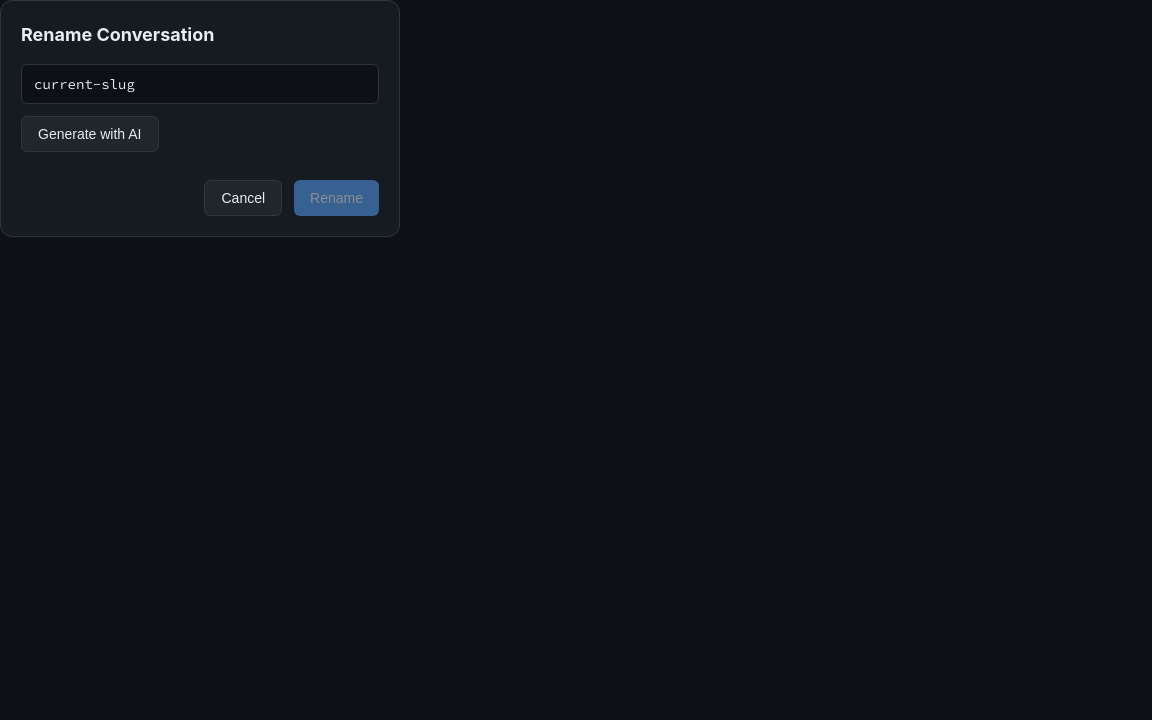
Test case: RenameDialog › surfaces generation failure through the existing error area without closing
Step 1. Click the button "Generate with AI" → [90, 134], box [21,116,158,152]
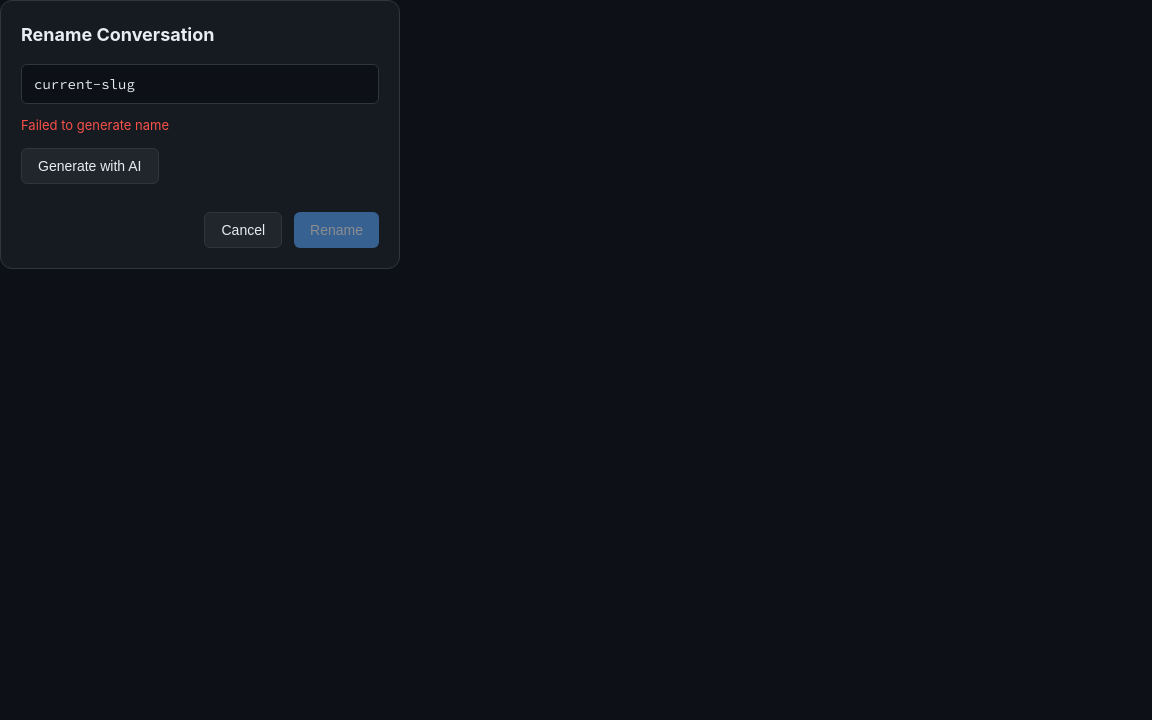
Expected: the dialog is shown, [0,0,400,268]
Result: the text "Failed to generate name" is shown at [21,117,169,133]
